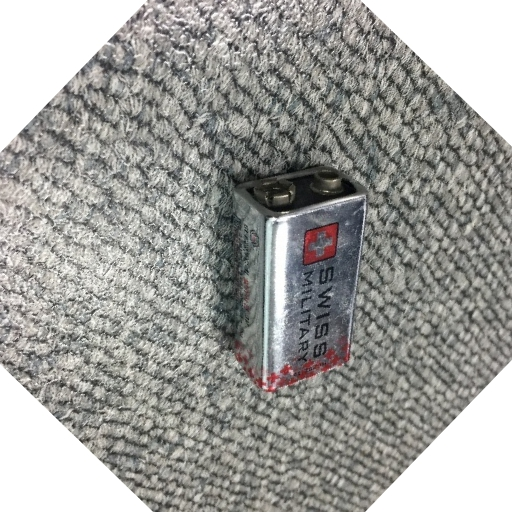Battery_3: (221, 152, 387, 398)
